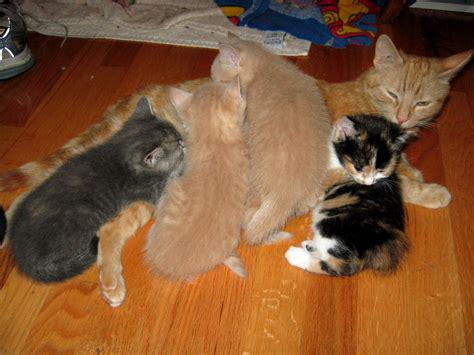cat: (10, 98, 183, 283), (322, 35, 471, 206), (210, 30, 329, 242), (285, 115, 416, 277), (147, 76, 251, 276)
